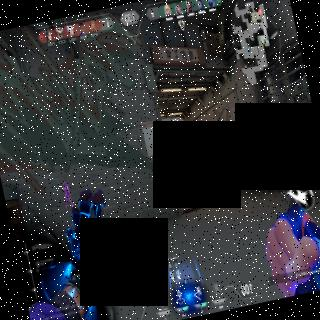ENEMY-BODY: (60, 179, 74, 209)
ENEMY-HEAD: (63, 181, 66, 186)
